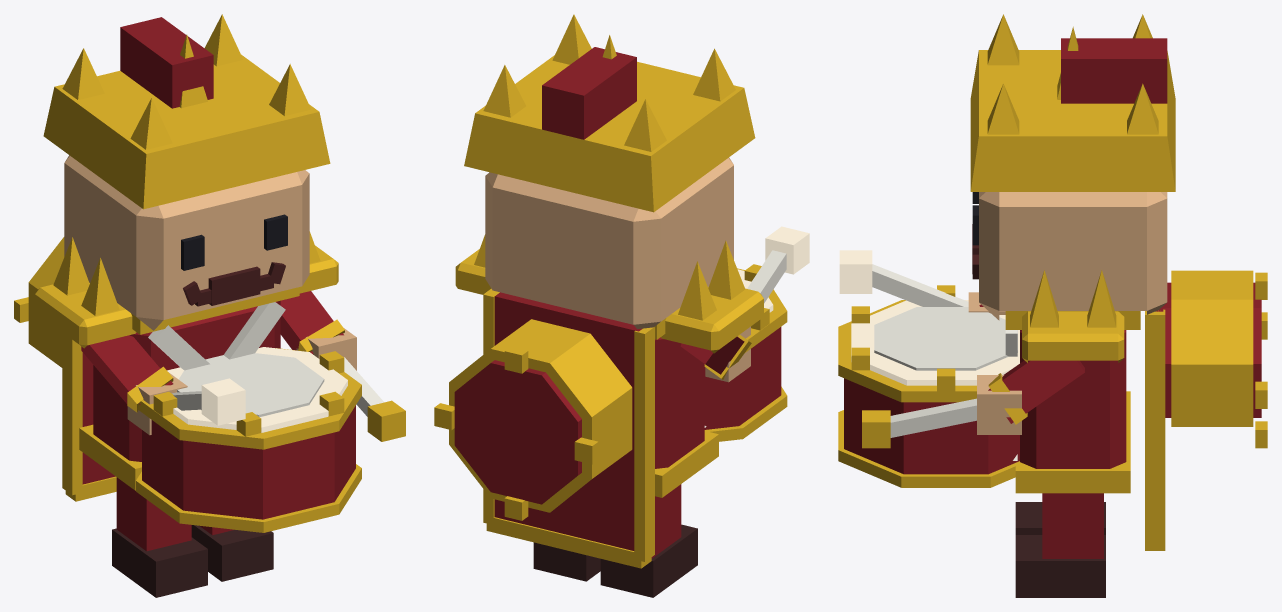
Rendered from drummer_legend.glb.
The picture shows the model from 3 angles, left to right: view 1: azimuth 30°, elevation 25°; view 2: azimuth 150°, elevation 25°; view 3: azimuth 270°, elevation 25°; orthographic projection. The views are drawn at different scales.
Parts seen in each view (by area): view 1: drummer_legend_mesh; view 2: drummer_legend_mesh; view 3: drummer_legend_mesh.
Boxes of the visible parts, x1=… form: drummer_legend_mesh: x1=14, y1=14, x2=405, y2=597; drummer_legend_mesh: x1=434, y1=14, x2=809, y2=597; drummer_legend_mesh: x1=838, y1=14, x2=1267, y2=597.
Size of the model in its own units: 0.6678 by 1.3 by 0.9334.
2 materials, 2 textured.
